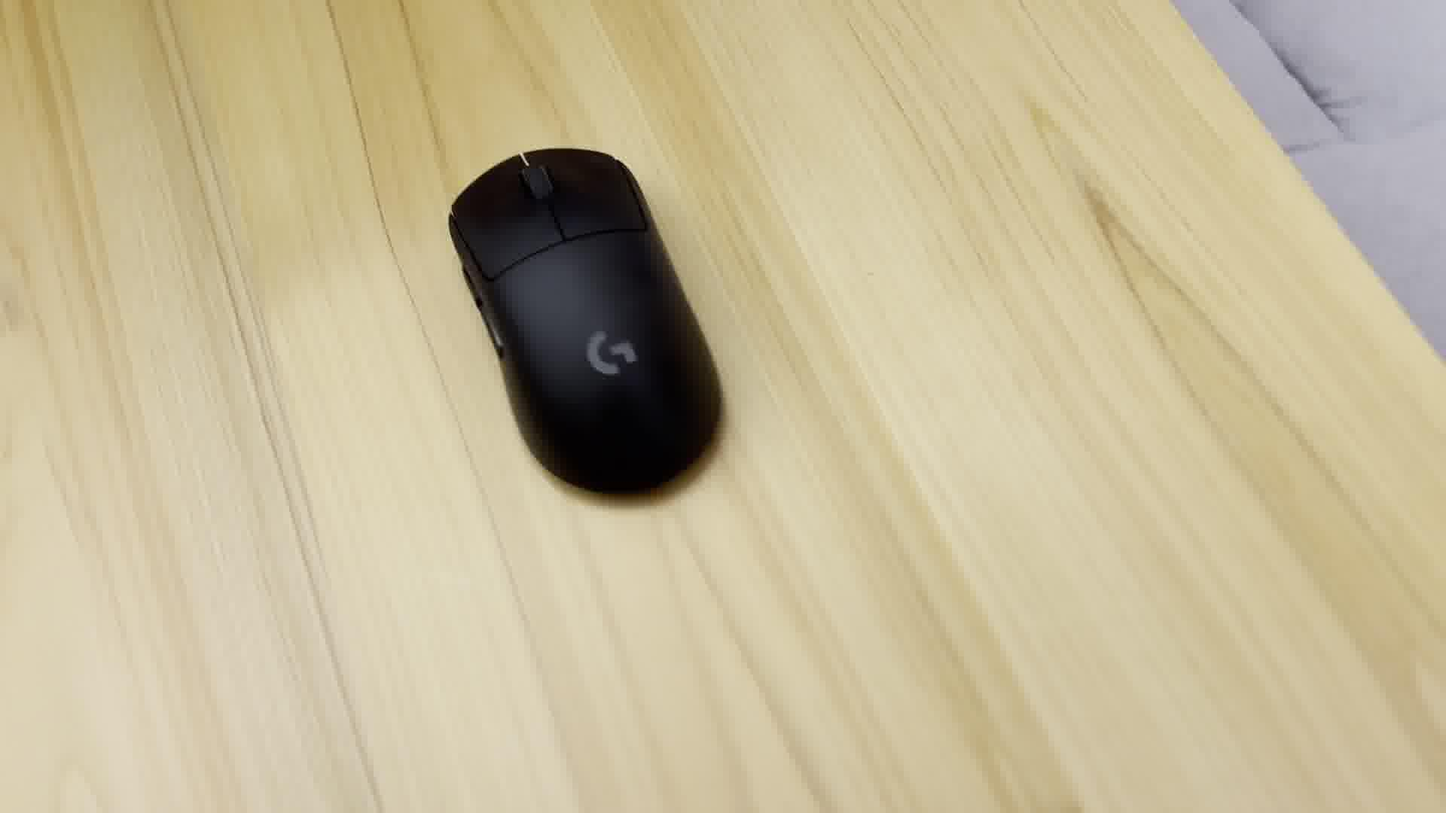logicool: (445, 137, 731, 506)
